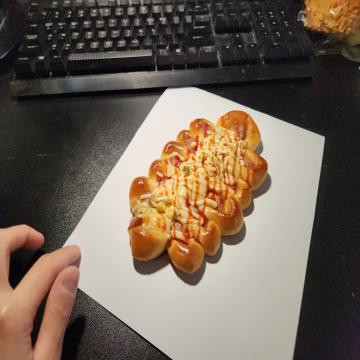pizza_bread: (125, 110, 268, 276)
